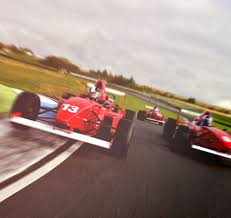FormulaOneCar: (8, 69, 136, 160)
